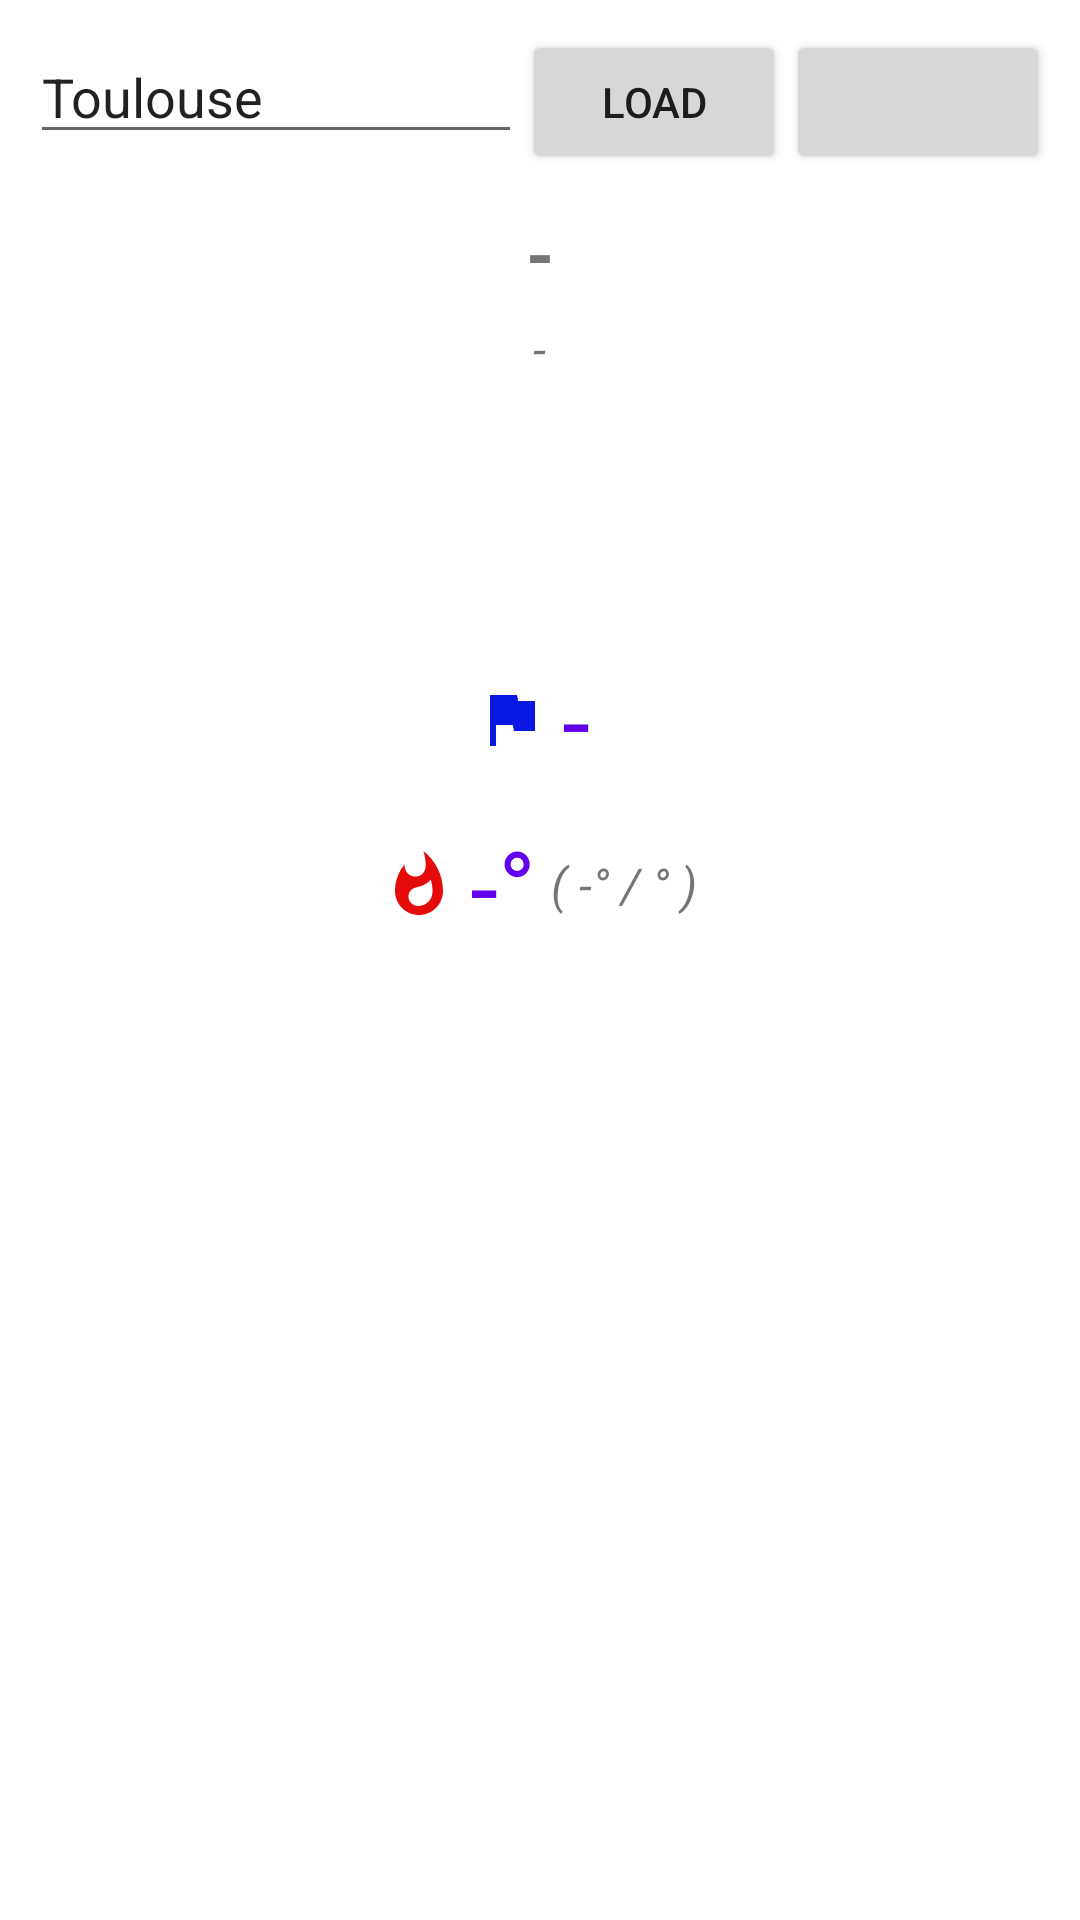

Where to tap for icons on this 1080px x 1920px app screen, as (x=x, y=y):
flag: (x=512, y=720)
whatshot: (x=419, y=883)
